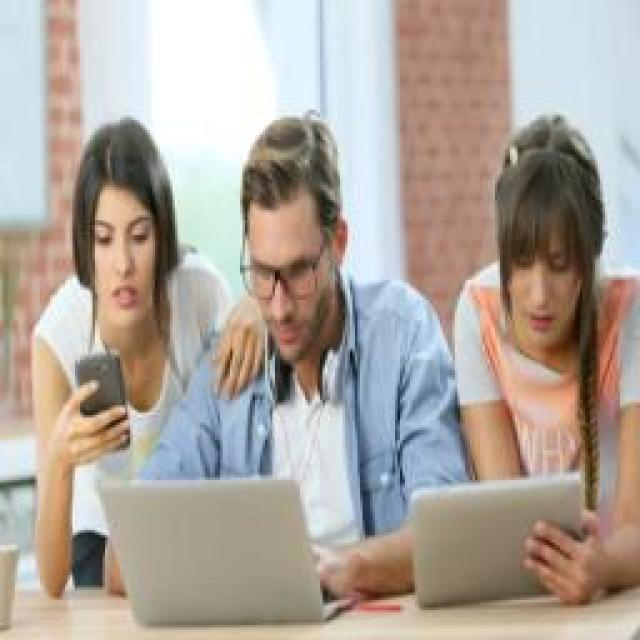phone: (33, 115, 225, 467)
